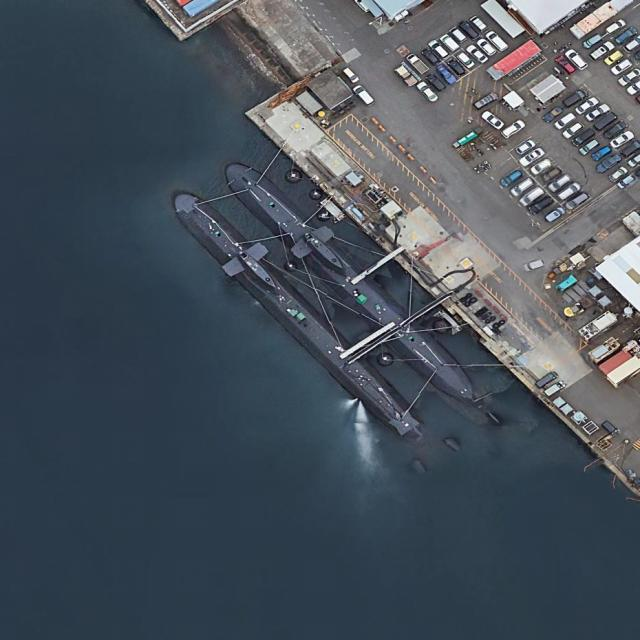Submarine: (220, 151, 481, 413), (167, 182, 423, 445)
